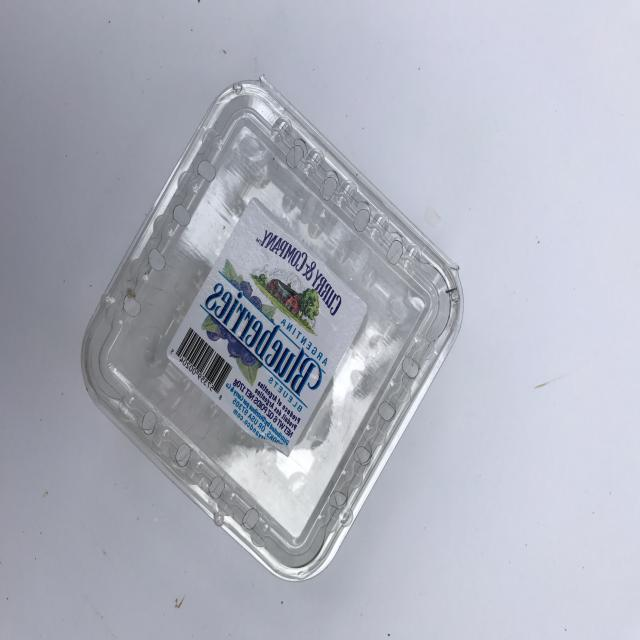plastic: (80, 74, 464, 582)
